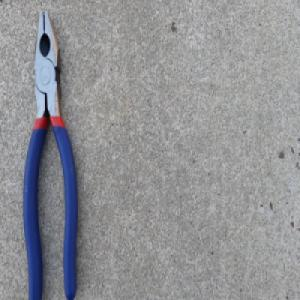Pliers: (21, 8, 80, 300)
